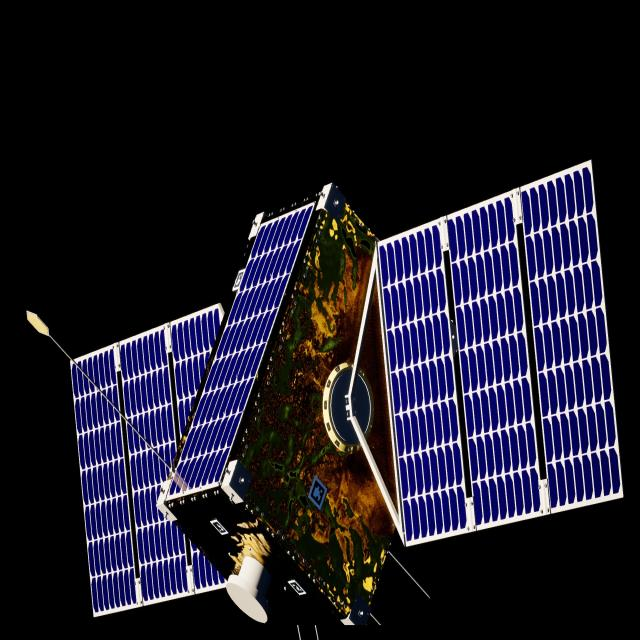medium_debris: (69, 164, 625, 633)
